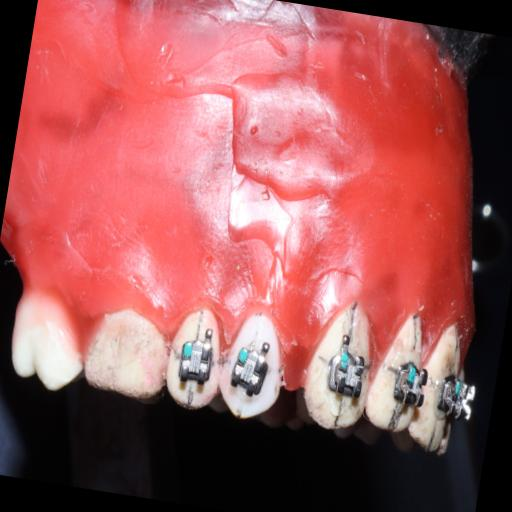correct_brace: (211, 304, 296, 428)
